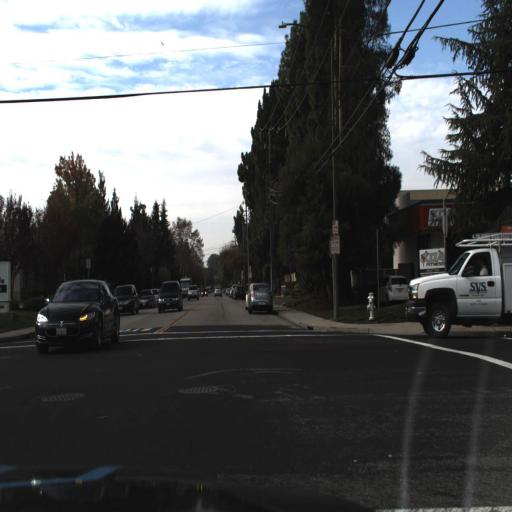car: (399, 225, 511, 350), (27, 271, 124, 366), (34, 276, 122, 358), (153, 277, 185, 317), (242, 276, 275, 313), (116, 278, 142, 321), (114, 282, 140, 316), (138, 285, 159, 311), (186, 282, 204, 303), (208, 278, 226, 299)
truck: (405, 228, 510, 335)
